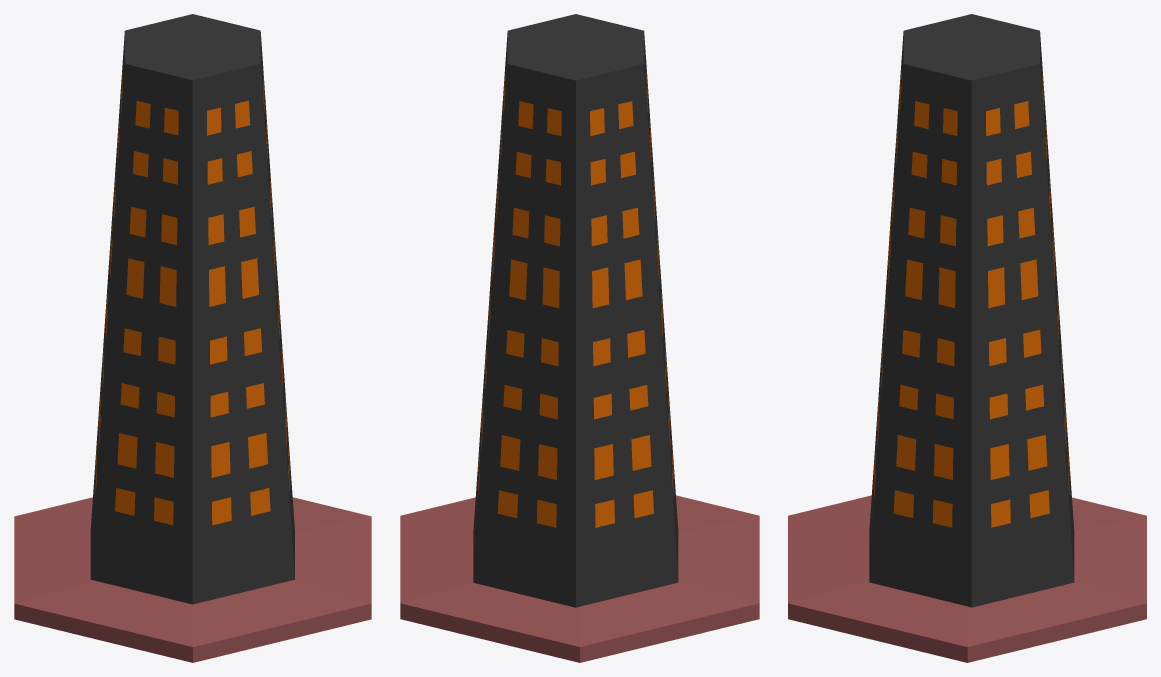
File: SelectLevel_Level3.FBX
3 renders of one model, left to right at view 1: azimuth 30°, elevation 25°; view 2: azimuth 150°, elevation 25°; view 3: azimuth 270°, elevation 25°, orthographic.
Parts seen in each view (by area): view 1: Object004, Object017, Object005; view 2: Object004, Object017, Object005; view 3: Object004, Object017, Object005.
Part boxes in pixels (x1=…): Object004: x1=90, y1=14, x2=294, y2=604; Object017: x1=14, y1=497, x2=371, y2=662; Object005: x1=95, y1=72, x2=289, y2=525; Object004: x1=473, y1=14, x2=678, y2=607; Object017: x1=400, y1=495, x2=759, y2=662; Object005: x1=478, y1=72, x2=673, y2=527; Object004: x1=869, y1=14, x2=1074, y2=607; Object017: x1=788, y1=495, x2=1146, y2=662; Object005: x1=874, y1=72, x2=1069, y2=527.
Bounding box in the file's own units: 3935 × 5542 × 3408.
